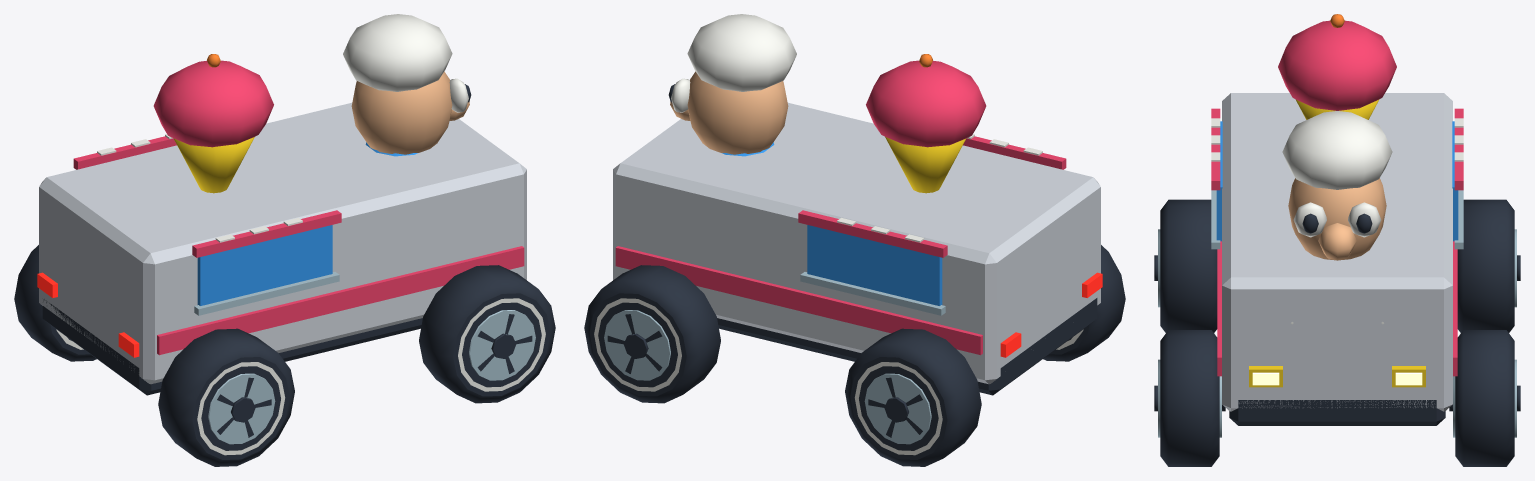
The model's file is kart_6.glb.
The picture shows the model from 3 angles, left to right: view 1: azimuth 30°, elevation 25°; view 2: azimuth 150°, elevation 25°; view 3: azimuth 270°, elevation 25°; orthographic projection. The views are drawn at different scales.
Parts seen in each view (by area): view 1: Van, detail_Coral, wheel_rr, wheel_fr, detail_Ivory, detail_Electric blue, detail_Peach, detail_Rubber, wheel_rl, detail_Lemon, detail_Chrome, detail_Tail light lens; view 2: Van, detail_Coral, wheel_rl, wheel_fl, detail_Ivory, detail_Electric blue, detail_Peach, detail_Rubber, wheel_rr, detail_Lemon, detail_Chrome, detail_Tail light lens; view 3: Van, detail_Coral, detail_Ivory, wheel_fl, wheel_fr, wheel_rl, wheel_rr, detail_Rubber, detail_Peach, detail_Lemon, detail_Electric blue, detail_Chrome (+1 smaller).
Boxes of the visible parts, x1=… form: Van: x1=39, y1=102, x2=526, y2=384; detail_Coral: x1=73, y1=60, x2=524, y2=355; wheel_rr: x1=158, y1=328, x2=294, y2=466; wheel_fr: x1=419, y1=265, x2=555, y2=403; detail_Ivory: x1=97, y1=14, x2=468, y2=242; detail_Electric blue: x1=197, y1=142, x2=417, y2=305; detail_Peach: x1=351, y1=71, x2=469, y2=154; detail_Rubber: x1=42, y1=84, x2=471, y2=395; wheel_rl: x1=14, y1=245, x2=96, y2=361; detail_Lemon: x1=173, y1=137, x2=254, y2=193; detail_Chrome: x1=194, y1=272, x2=339, y2=315; detail_Tail light lens: x1=37, y1=272, x2=139, y2=357; Van: x1=613, y1=102, x2=1100, y2=384; detail_Coral: x1=615, y1=60, x2=1066, y2=355; wheel_rl: x1=845, y1=328, x2=981, y2=466; wheel_fl: x1=584, y1=265, x2=720, y2=403; detail_Ivory: x1=671, y1=14, x2=1042, y2=242; detail_Electric blue: x1=722, y1=142, x2=942, y2=305; detail_Peach: x1=670, y1=71, x2=788, y2=154; detail_Rubber: x1=668, y1=84, x2=1097, y2=395; wheel_rr: x1=1043, y1=245, x2=1125, y2=361; detail_Lemon: x1=885, y1=137, x2=966, y2=193; detail_Chrome: x1=800, y1=272, x2=945, y2=315; detail_Tail light lens: x1=1000, y1=272, x2=1102, y2=357; Van: x1=1222, y1=93, x2=1452, y2=411; detail_Coral: x1=1211, y1=20, x2=1463, y2=376; detail_Ivory: x1=1211, y1=111, x2=1463, y2=324; wheel_fl: x1=1449, y1=330, x2=1520, y2=466; wheel_fr: x1=1154, y1=330, x2=1225, y2=466; wheel_rl: x1=1457, y1=199, x2=1520, y2=332; wheel_rr: x1=1154, y1=199, x2=1217, y2=332; detail_Rubber: x1=1229, y1=213, x2=1445, y2=425; detail_Peach: x1=1288, y1=178, x2=1386, y2=260; detail_Lemon: x1=1249, y1=99, x2=1425, y2=387; detail_Electric blue: x1=1216, y1=121, x2=1458, y2=241; detail_Chrome: x1=1211, y1=190, x2=1463, y2=249.
Bounding box in the file's own units: 3.17 × 2.56 × 2.46.
